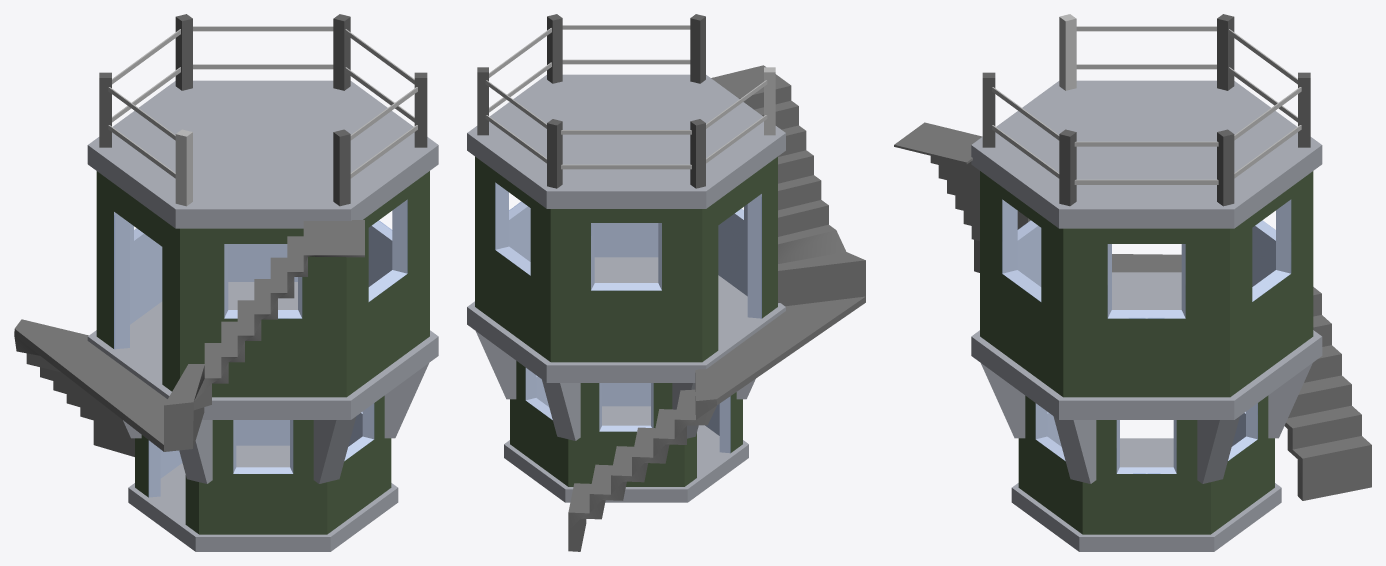
The model's file is House soldi LV2.fbx.
The picture shows the model from 3 angles, left to right: view 1: azimuth 30°, elevation 25°; view 2: azimuth 150°, elevation 25°; view 3: azimuth 270°, elevation 25°; orthographic projection. The views are drawn at different scales.
Parts seen in each view (by area): view 1: HouseSoldiLV2; view 2: HouseSoldiLV2; view 3: HouseSoldiLV2.
Boxes of the visible parts, left/top/right/bottom form: HouseSoldiLV2: left=14, top=14, right=438, bottom=551; HouseSoldiLV2: left=467, top=14, right=865, bottom=551; HouseSoldiLV2: left=894, top=14, right=1371, bottom=551.
Bounding box in the file's own units: 308 × 410 × 407.
